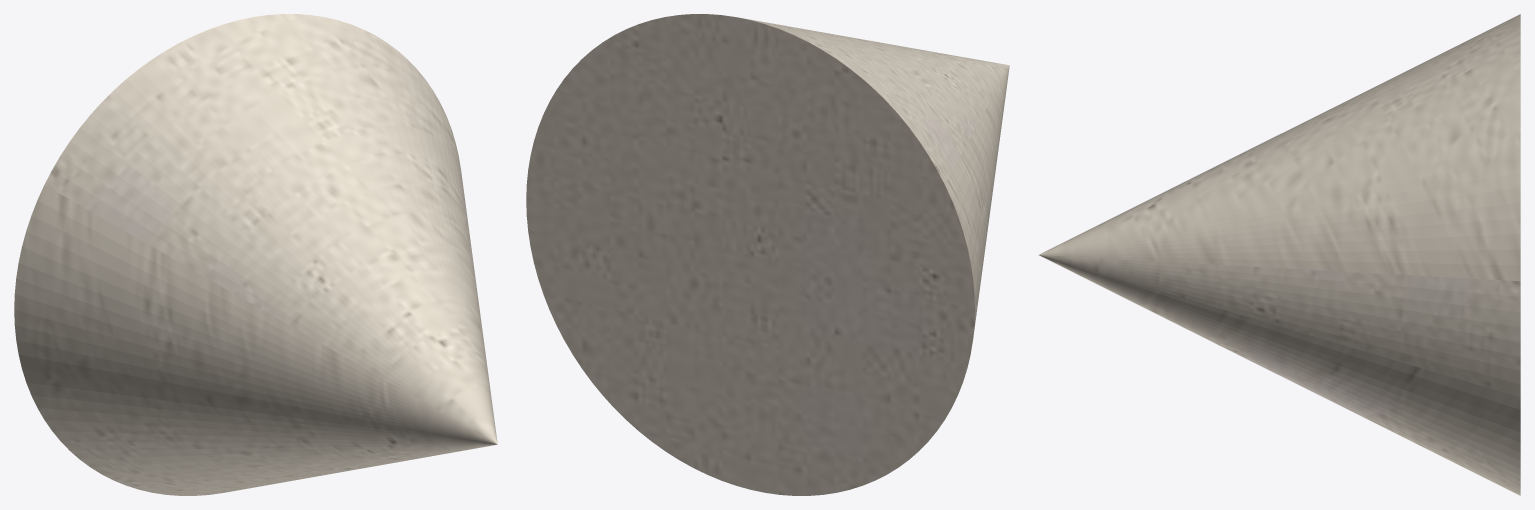
File: Kerucut.obj
The picture shows the model from 3 angles, left to right: view 1: azimuth 30°, elevation 25°; view 2: azimuth 150°, elevation 25°; view 3: azimuth 270°, elevation 25°; orthographic projection. The views are drawn at different scales.
Visible parts, largest first — view 1: Object.1; view 2: Object.1; view 3: Object.1.
Part boxes in pixels (x1,y1,x2,y2): Object.1: (14,14,497,495); Object.1: (526,14,1009,495); Object.1: (1039,14,1520,495).
Size of the model in its own units: 40 by 40 by 40.
Materials: 1 (1 with a texture image).
